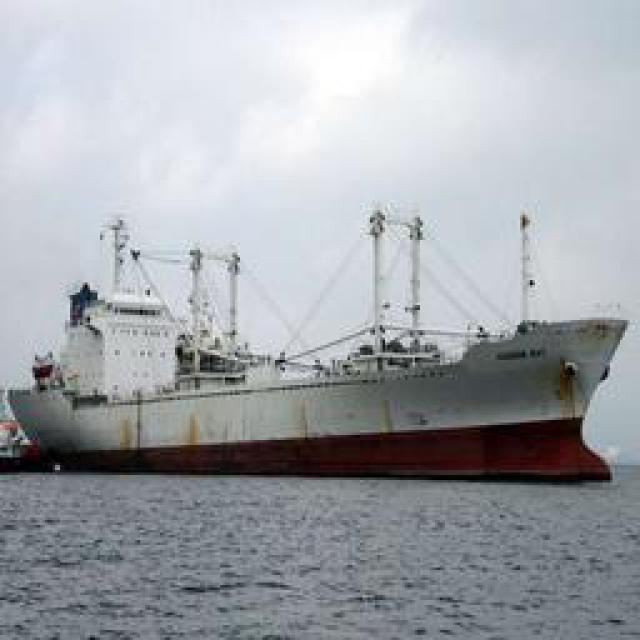Ship: (16, 201, 631, 466)
